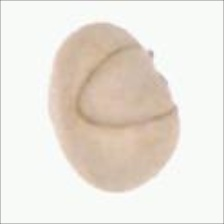L5: (72, 44, 181, 129), (135, 42, 174, 100), (45, 101, 80, 164)
L6: (45, 21, 181, 196)
